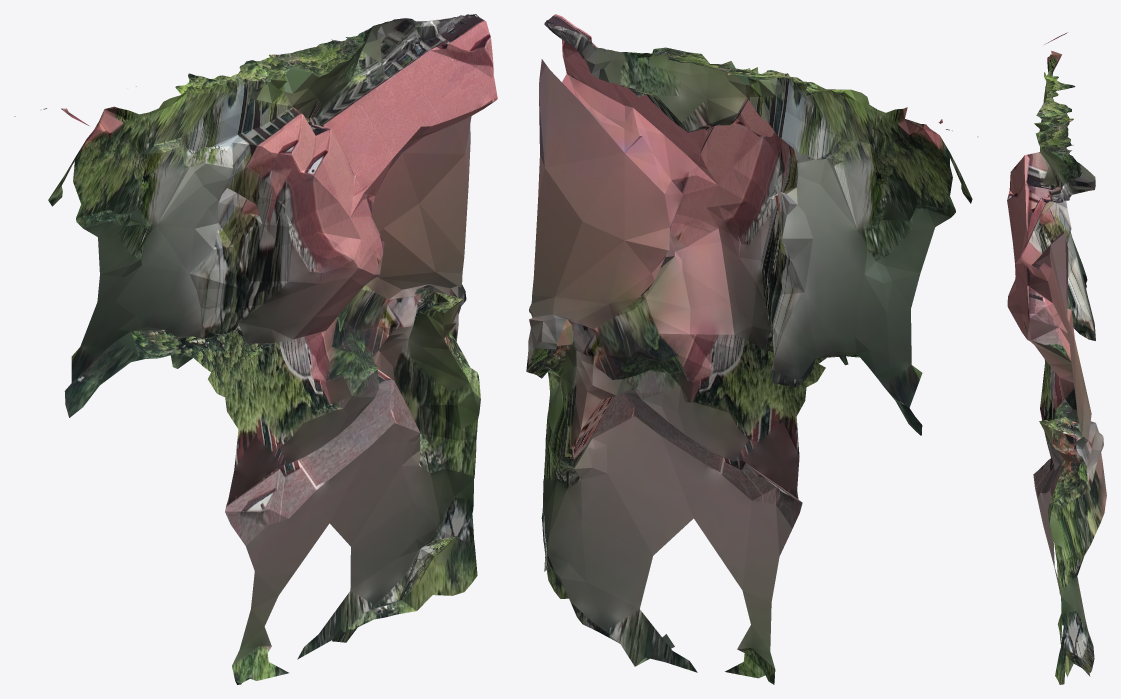
File: Tile_+001_+000.obj
3 views of the same model, side by side, from view 1: azimuth 30°, elevation 25°; view 2: azimuth 150°, elevation 25°; view 3: azimuth 270°, elevation 25° (orthographic). The views are drawn at different scales.
Bounding box in the file's own units: 117 × 153 × 26.58.
Materials: 1 (1 with a texture image).
